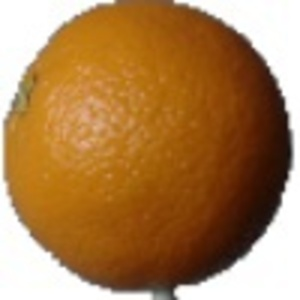laranja: (4, 5, 295, 297)
